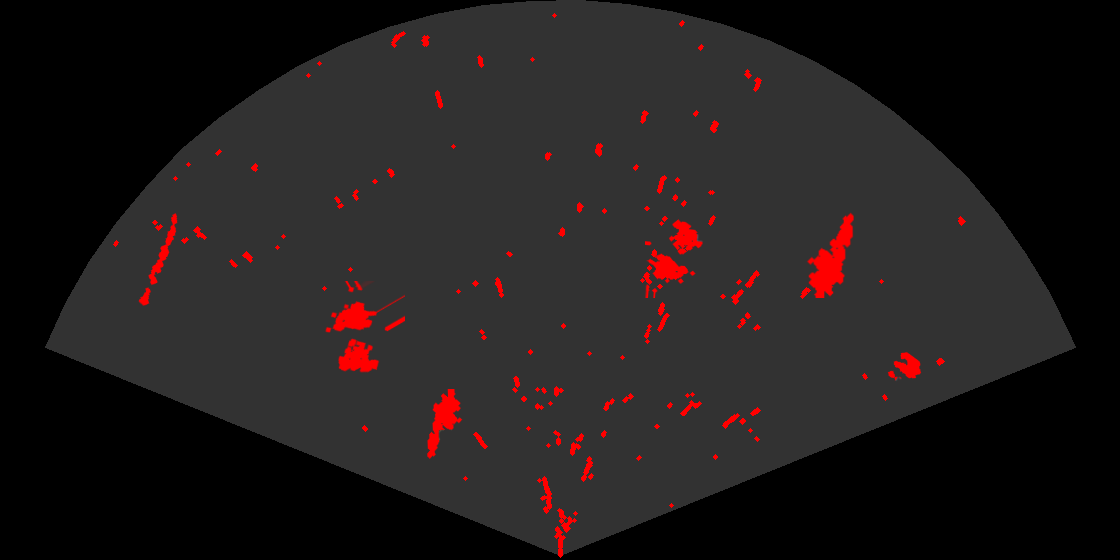ball: (886, 350, 923, 382)
cage: (324, 281, 405, 374), (645, 218, 704, 298)
chain: (137, 212, 179, 307)
frogman: (805, 211, 855, 298), (426, 389, 464, 459)
